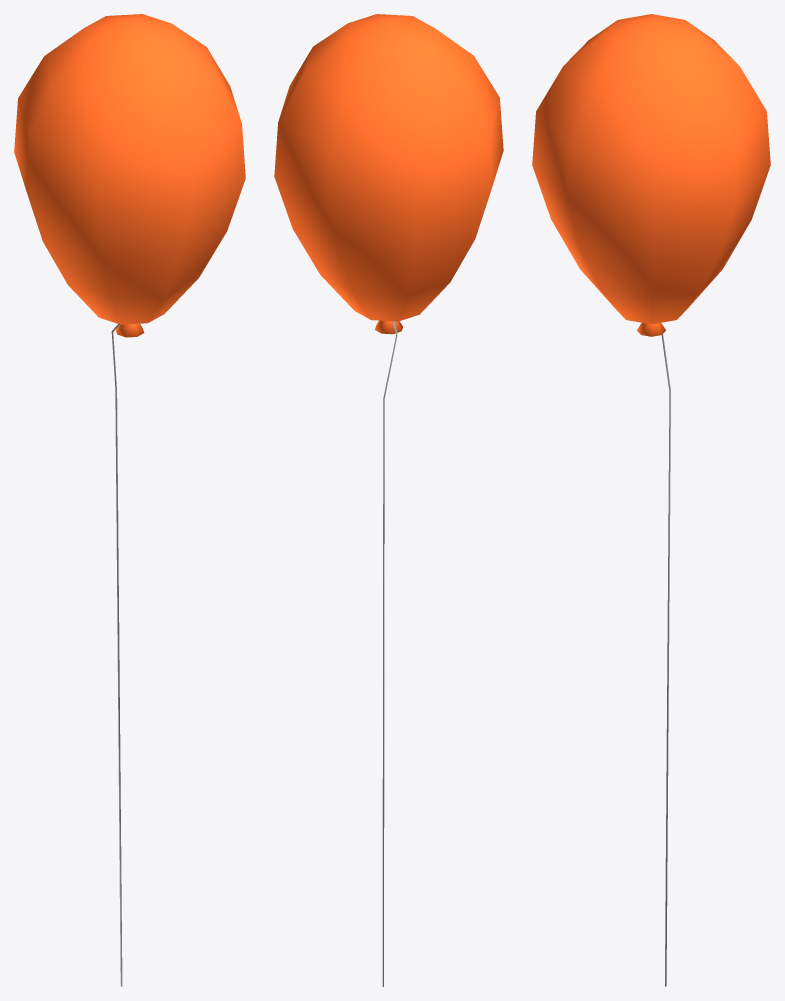
File: BalloonOrange.glb
3 views of the same model, side by side, from view 1: azimuth 30°, elevation 25°; view 2: azimuth 150°, elevation 25°; view 3: azimuth 270°, elevation 25° (orthographic).
Visible parts, largest first — view 1: BalloonOrange; view 2: BalloonOrange; view 3: BalloonOrange.
Part boxes in pixels (left/top/right/bottom): BalloonOrange: left=14, top=14, right=245, bottom=986; BalloonOrange: left=274, top=14, right=503, bottom=986; BalloonOrange: left=532, top=14, right=770, bottom=986.
Bounding box in the file's own units: 0.5007 × 2.23 × 0.5007.
1 material, 1 textured.
